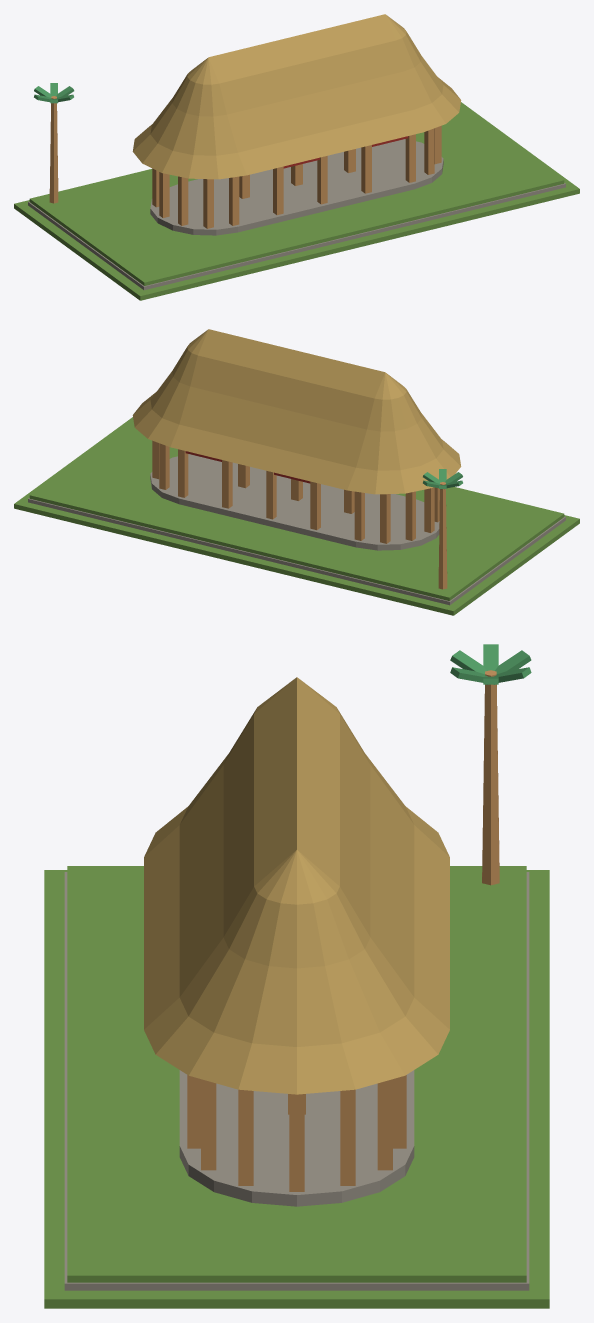
The model's file is house-2x1-1f-fale-a.glb.
The picture shows the model from 3 angles, top to bottom: view 1: azimuth 30°, elevation 25°; view 2: azimuth 150°, elevation 25°; view 3: azimuth 270°, elevation 25°; orthographic projection. The views are drawn at different scales.
Parts seen in each view (by area): view 1: house-2x1-1f-fale-a; view 2: house-2x1-1f-fale-a; view 3: house-2x1-1f-fale-a.
Boxes of the visible parts, <box> form: house-2x1-1f-fale-a: <box>14,14,579,300</box>; house-2x1-1f-fale-a: <box>14,329,579,615</box>; house-2x1-1f-fale-a: <box>44,644,549,1308</box>.
Size of the model in its own units: 1.99 by 0.715 by 0.99.
1 material, 1 textured.
